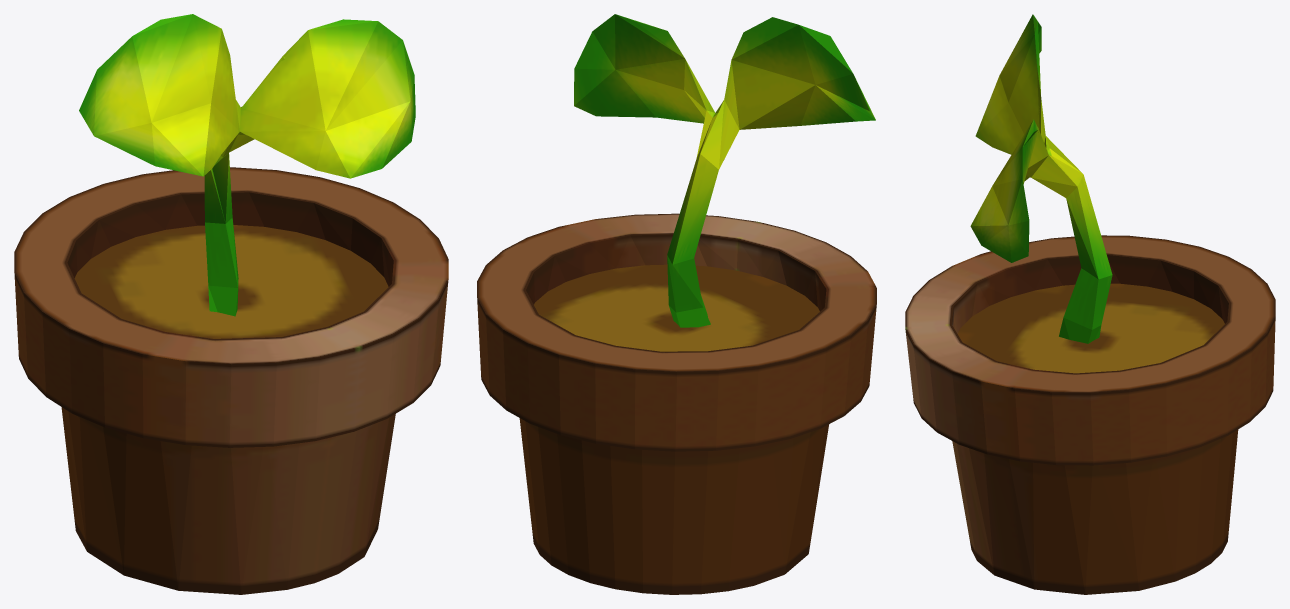
File: Flower Pot.obj
3 views of the same model, side by side, from view 1: azimuth 30°, elevation 25°; view 2: azimuth 150°, elevation 25°; view 3: azimuth 270°, elevation 25° (orthographic). The views are drawn at different scales.
Parts seen in each view (by area): view 1: Mesh-21; view 2: Mesh-21; view 3: Mesh-21.
Part boxes in pixels (<box>): Mesh-21: <box>14,14,448,594</box>; Mesh-21: <box>477,14,876,594</box>; Mesh-21: <box>905,14,1275,594</box>.
Bounding box in the file's own units: 3.36 × 4.78 × 3.34.
